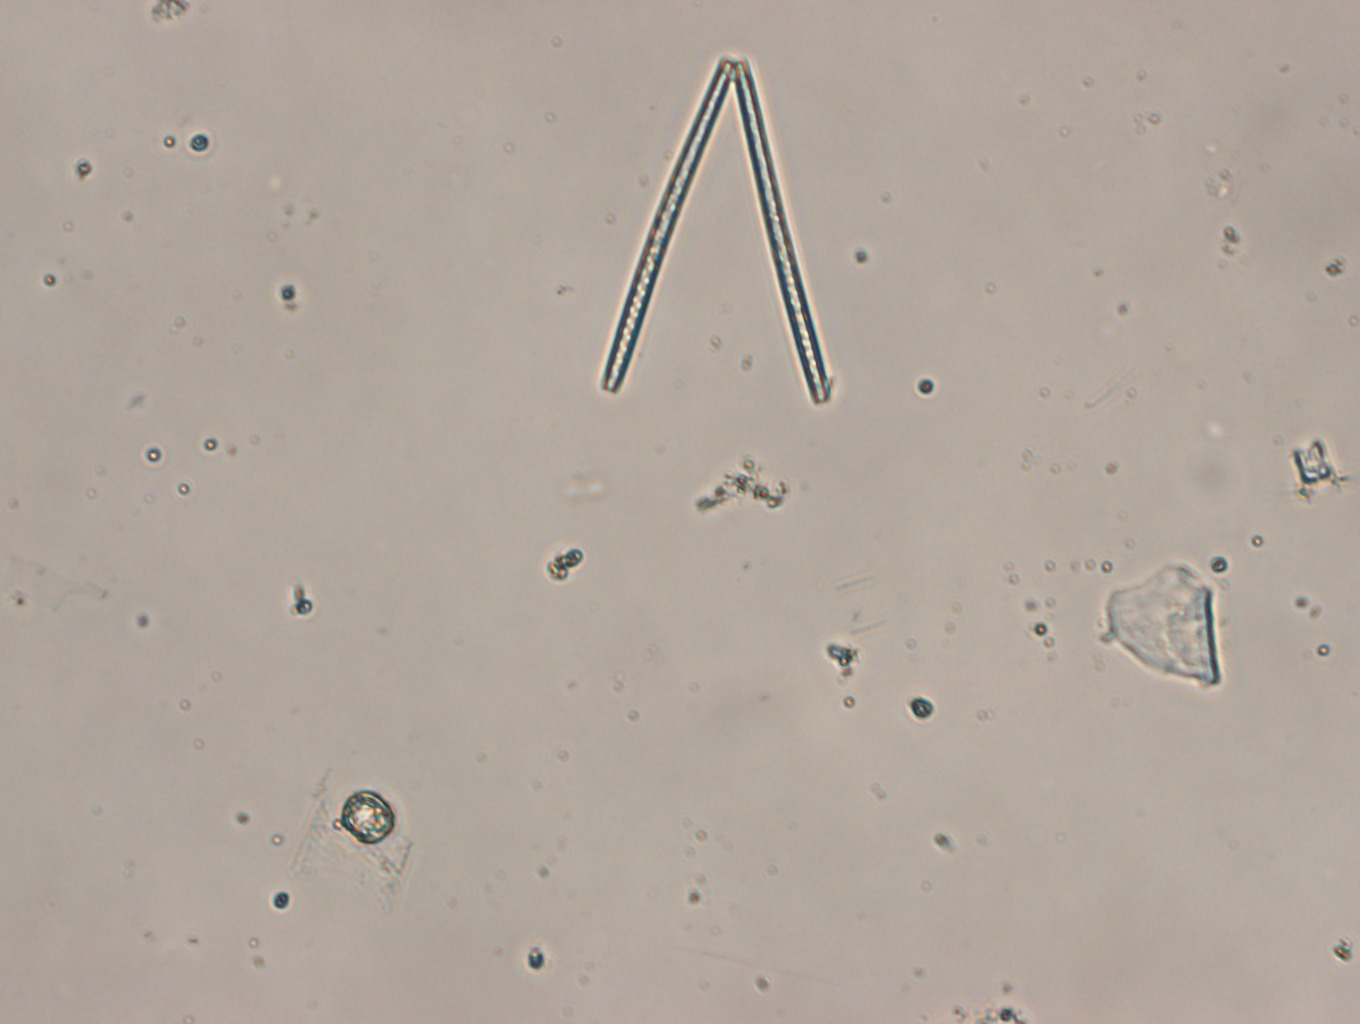thalassionema nitzschioides: (598, 52, 830, 407)
